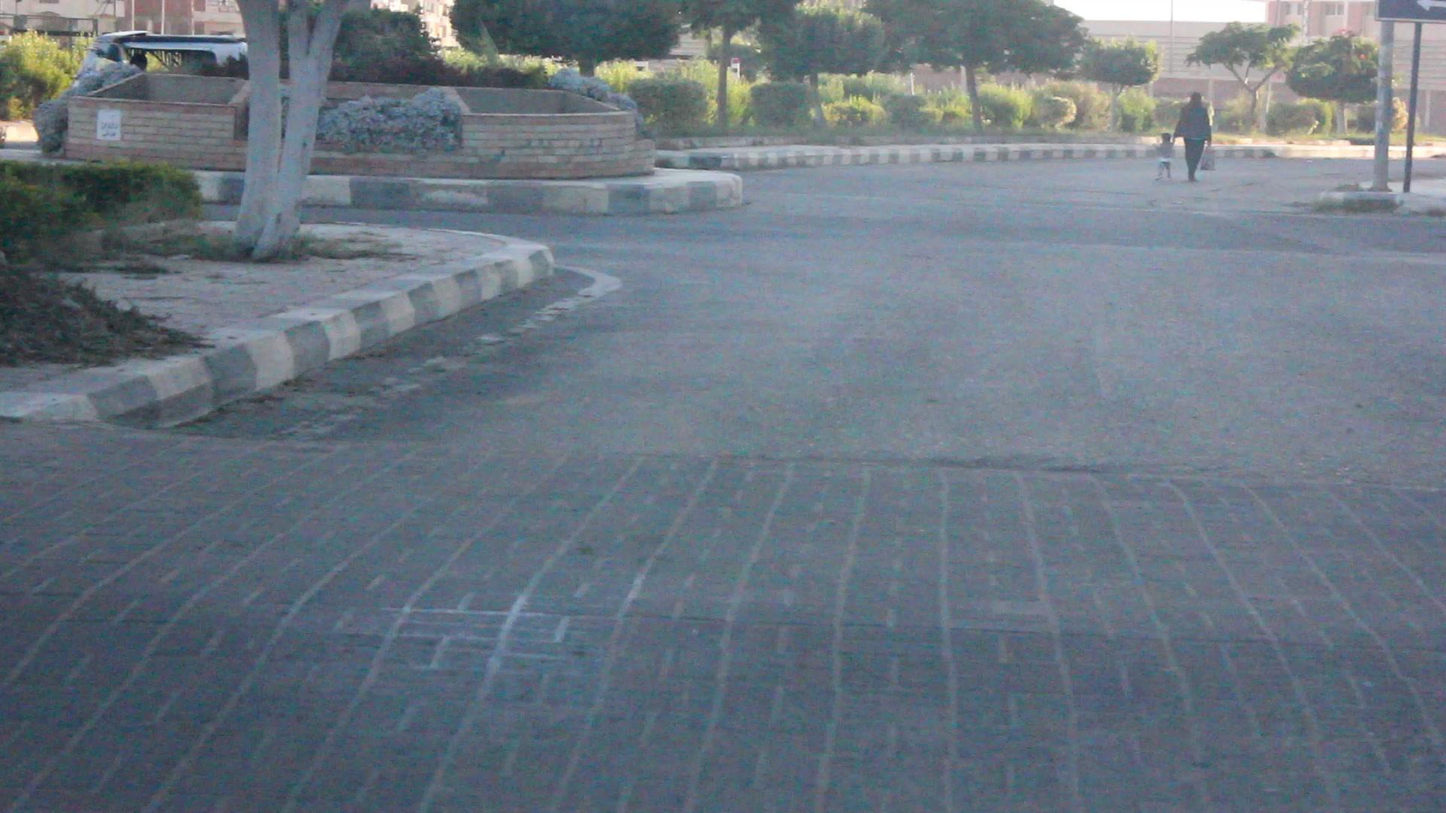Bump: (2, 391, 1446, 813)
